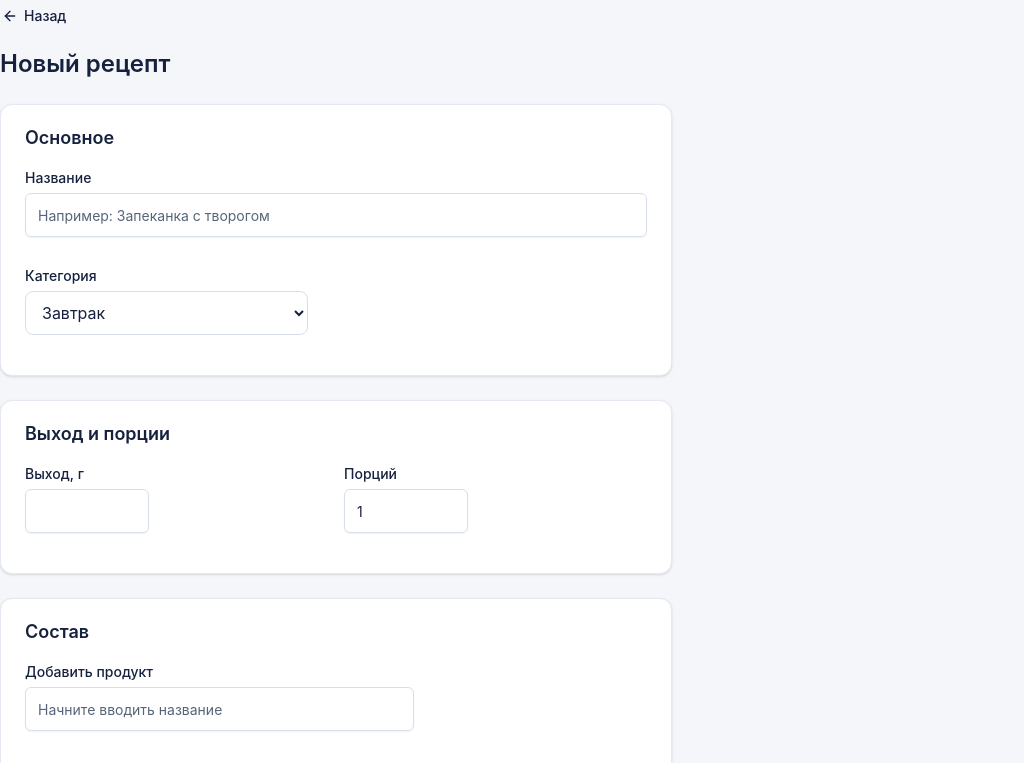
показатели в форме рецепта › без соотношения пишет «—», а не «— : 1»
In the dropdown labelled "Добавить продукт": (219, 709) [25, 687, 414, 731], type "масло"
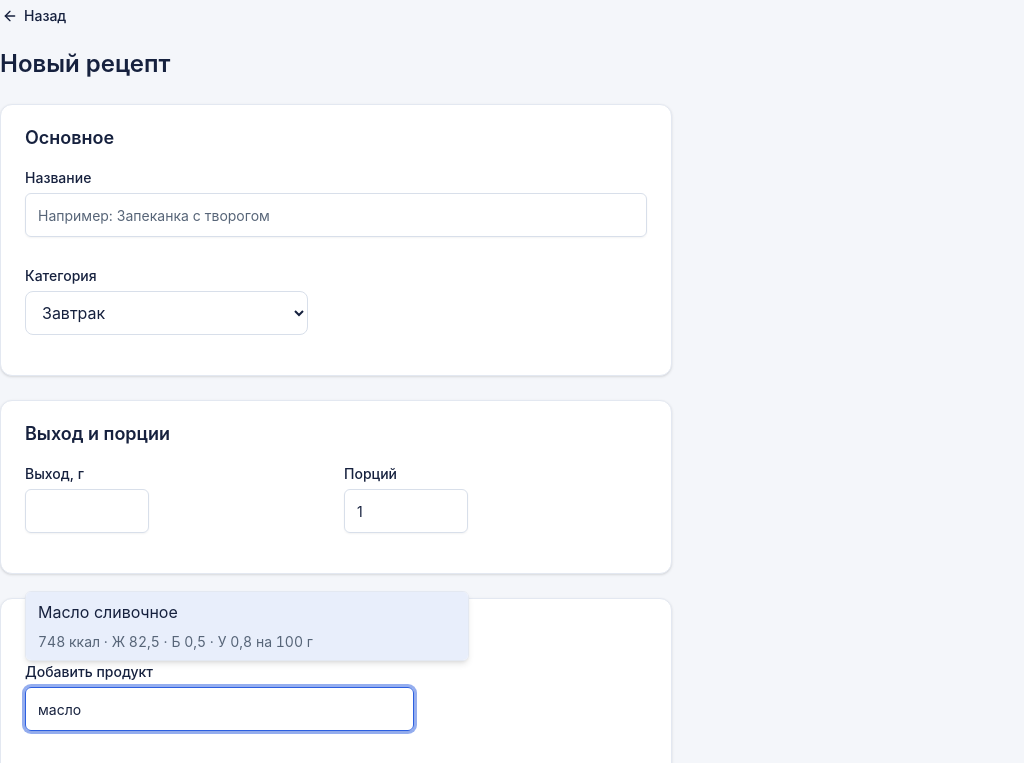
Click the option "Масло сливочное 748 ккал · Ж 82,5 · Б 0,5 · У 0,8 на 100 г": (108, 612) [26, 592, 468, 660]
(page scrolled)
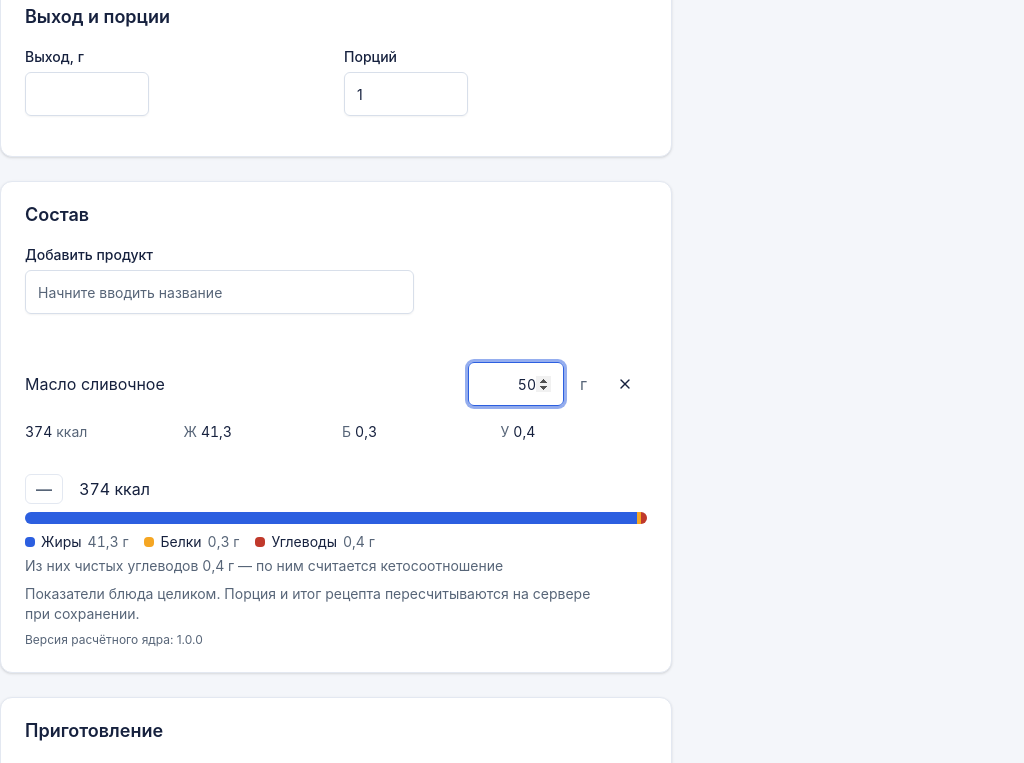
Expected: the text named "Соотношение не определено" reads "—", [25, 474, 63, 504]
